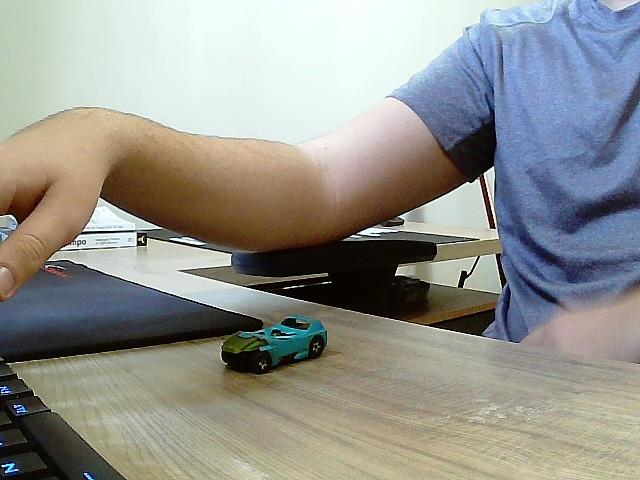Carro: (220, 316, 328, 375)
